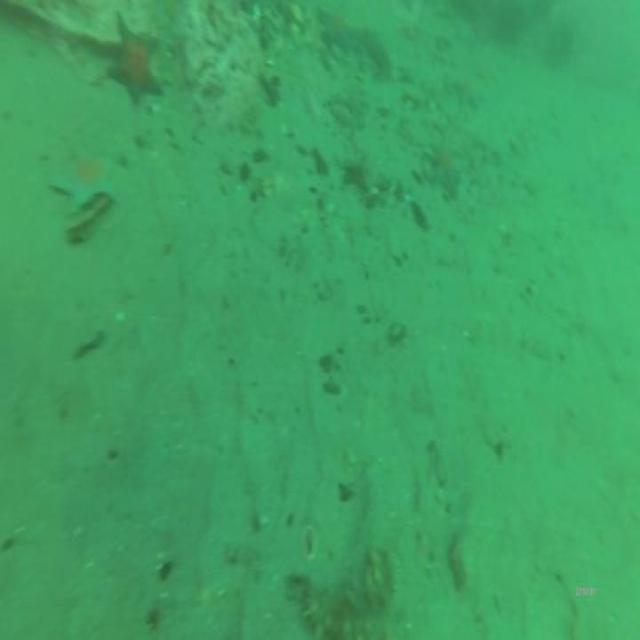holothurian: (299, 532, 408, 640)
starfish: (46, 133, 126, 218), (106, 10, 165, 110), (315, 5, 360, 58), (424, 138, 462, 199), (450, 70, 484, 114)
